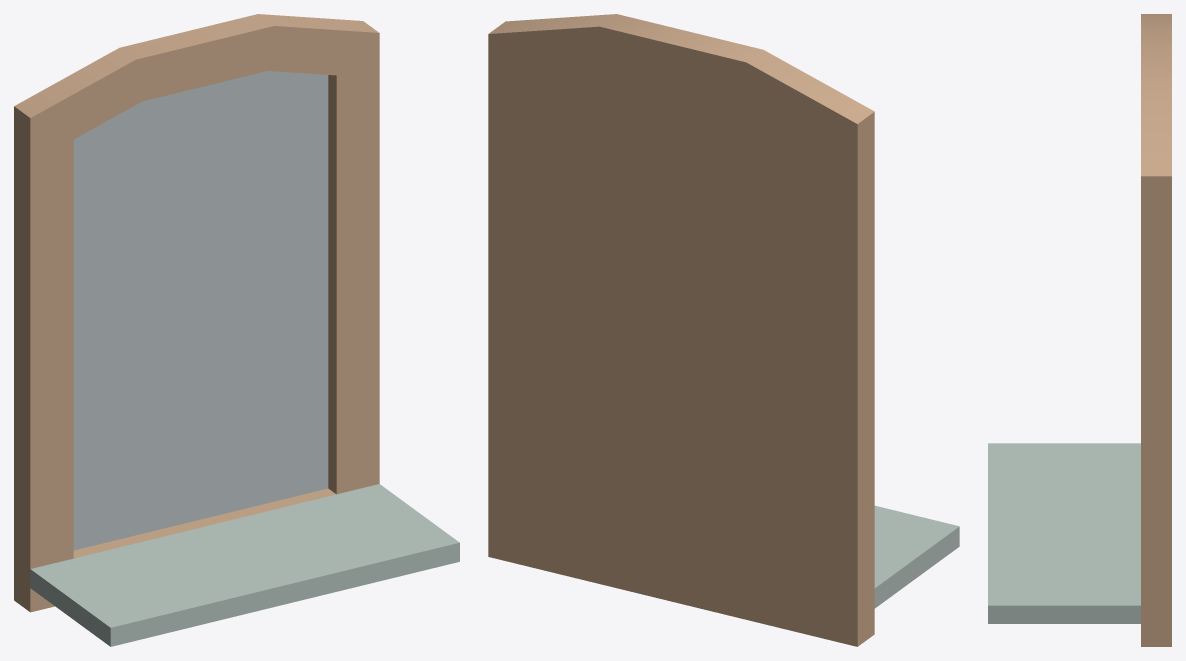
The model's file is bathroomMirror.glb.
The picture shows the model from 3 angles, left to right: view 1: azimuth 30°, elevation 25°; view 2: azimuth 150°, elevation 25°; view 3: azimuth 270°, elevation 25°; orthographic projection. The views are drawn at different scales.
Visible parts, largest first — view 1: bathroomMirror; view 2: bathroomMirror; view 3: bathroomMirror.
Part boxes in pixels (x1,y1,x2,y2): bathroomMirror: (14, 14, 459, 646); bathroomMirror: (488, 14, 959, 646); bathroomMirror: (988, 14, 1171, 646).
Bounding box in the file's own units: 0.3013 × 0.4346 × 0.1444.
